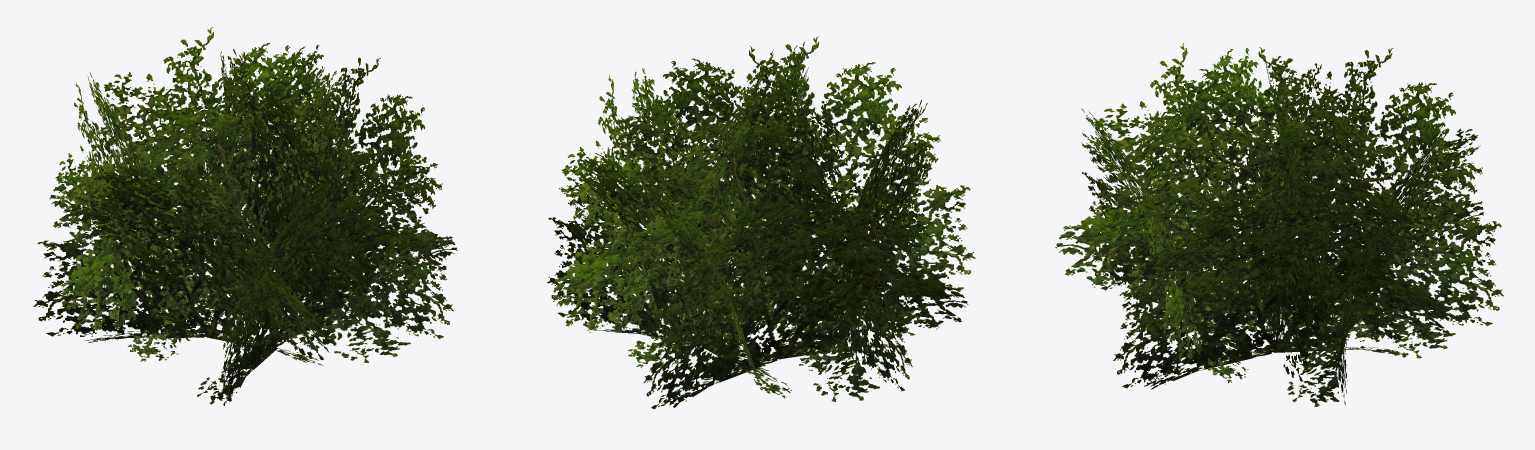
File: tre_dry02_small.glb
The picture shows the model from 3 angles, left to right: view 1: azimuth 30°, elevation 25°; view 2: azimuth 150°, elevation 25°; view 3: azimuth 270°, elevation 25°; orthographic projection. The views are drawn at different scales.
Visible parts, largest first — view 1: tre_dry02_small; view 2: tre_dry02_small; view 3: tre_dry02_small.
Boxes of the visible parts, box(x1,y1,x2,y2) form: tre_dry02_small: box(33, 27, 457, 405); tre_dry02_small: box(547, 36, 975, 409); tre_dry02_small: box(1055, 43, 1503, 406).
Size of the model in its own units: 5.97 by 4.22 by 6.2.
Materials: 1 (1 with a texture image).
